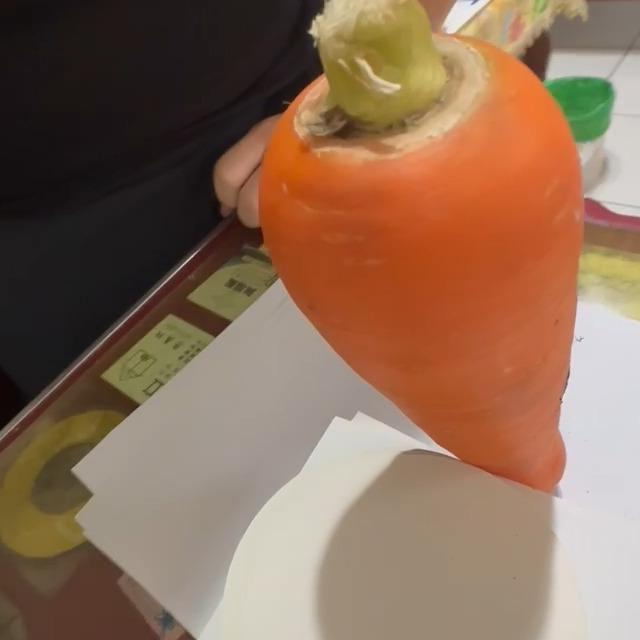carrot: (258, 1, 593, 490)
